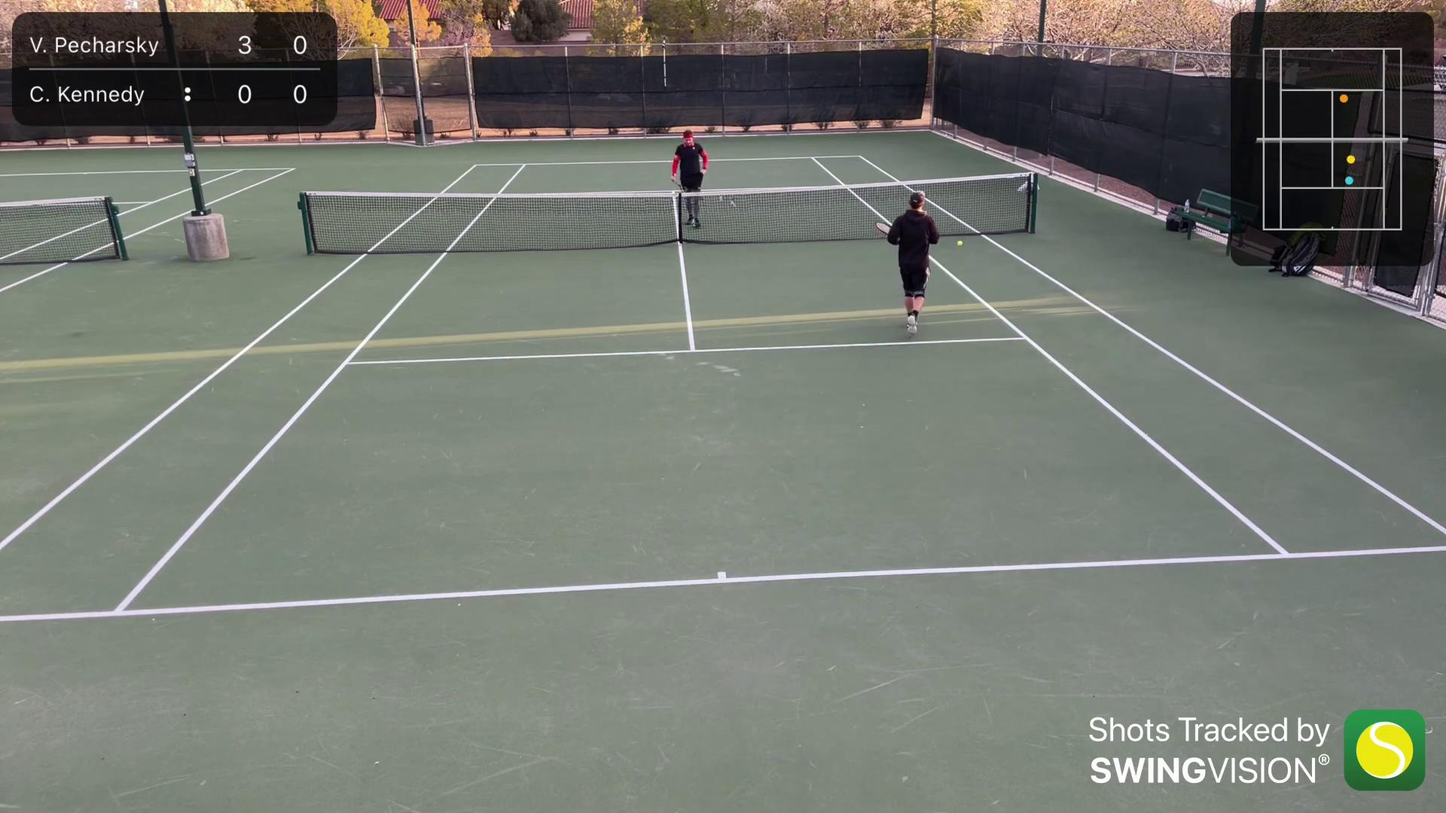ball: (956, 239, 964, 247)
